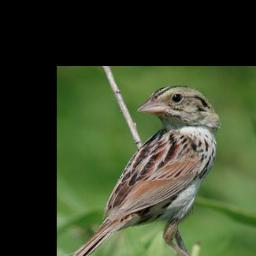Sparrow: (62, 85, 222, 256)
